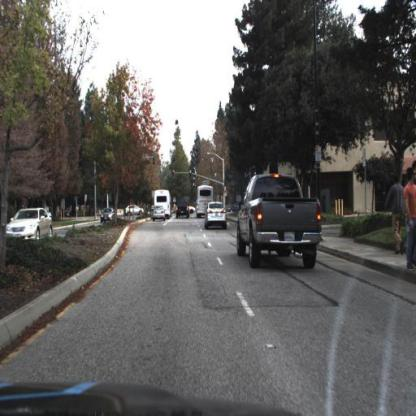car: (238, 175, 324, 270), (7, 206, 54, 245), (203, 203, 230, 230), (176, 200, 191, 219), (126, 202, 146, 216), (152, 206, 167, 224), (100, 206, 114, 224), (101, 209, 115, 224)
pedestrian: (388, 176, 406, 254), (403, 168, 416, 271)
trafficLight-Red: (172, 167, 177, 181)
truck: (196, 185, 216, 217), (153, 188, 172, 217)
